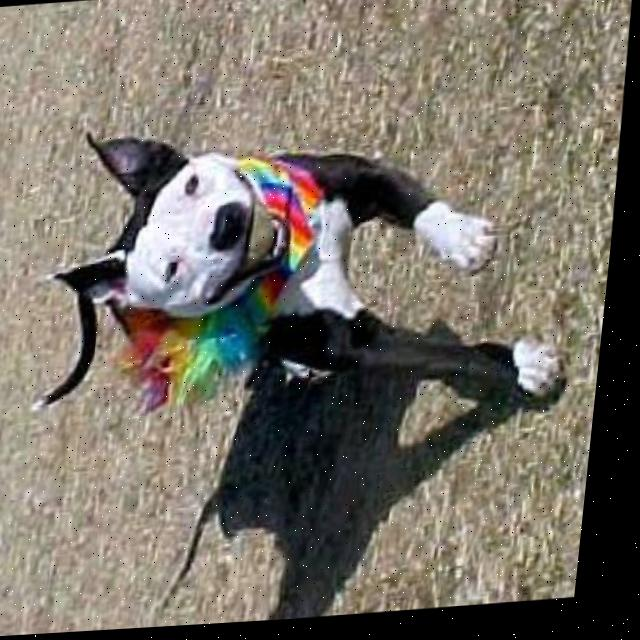dogs: (9, 86, 627, 486)
